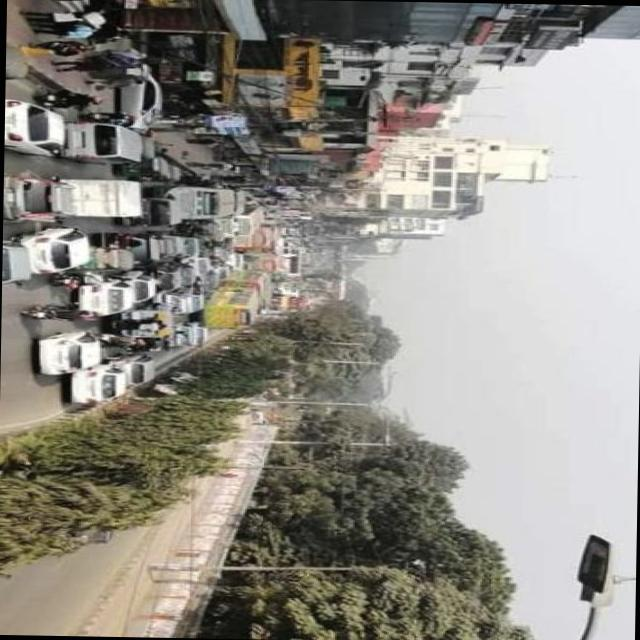bus: (153, 182, 237, 216), (200, 285, 262, 328), (113, 300, 177, 334), (224, 202, 270, 234), (226, 270, 270, 287), (250, 253, 286, 270)
car: (6, 96, 70, 156), (21, 223, 94, 273), (37, 327, 104, 374), (122, 62, 167, 130), (72, 362, 132, 404), (79, 279, 138, 316), (112, 352, 158, 382), (122, 268, 162, 302), (4, 240, 34, 282), (158, 291, 190, 311), (190, 253, 212, 275)
motorcycle: (82, 244, 138, 270), (120, 154, 174, 176), (40, 89, 82, 107), (22, 302, 68, 318), (53, 269, 87, 287)
truck: (5, 174, 78, 222), (66, 120, 146, 162), (61, 177, 145, 216), (100, 229, 166, 263), (118, 196, 186, 226)
